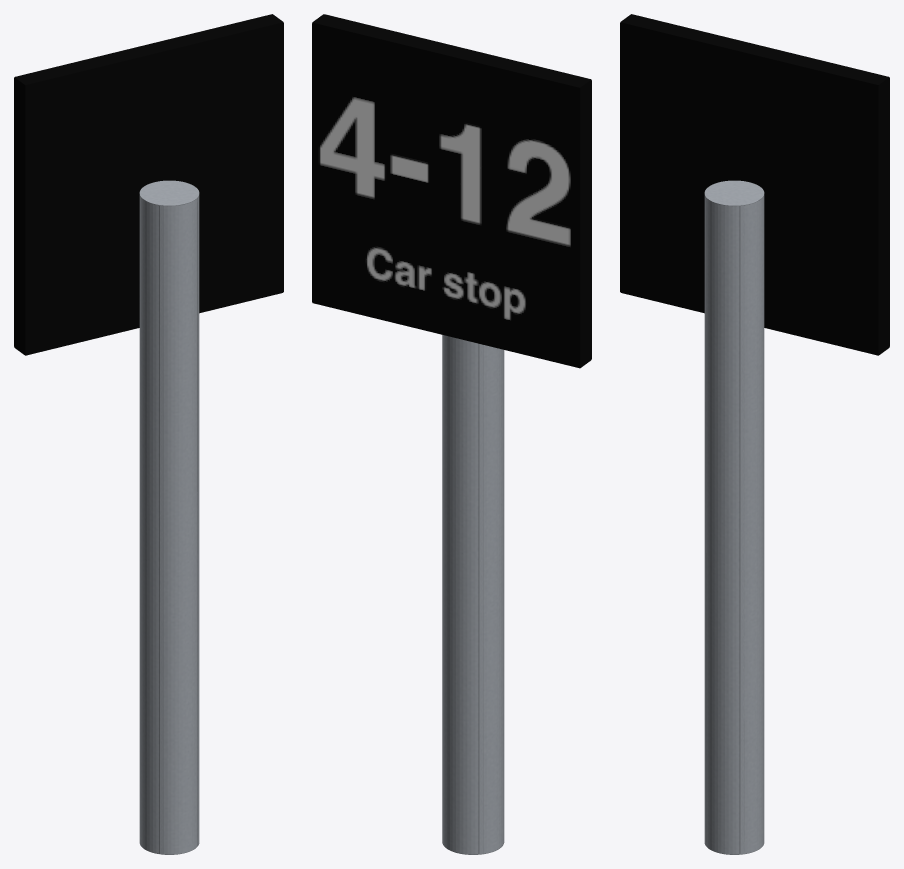
Rendered from 412mark.obj.
The picture shows the model from 3 angles, left to right: view 1: azimuth 30°, elevation 25°; view 2: azimuth 150°, elevation 25°; view 3: azimuth 330°, elevation 25°; orthographic projection. The views are drawn at different scales.
Visible parts, largest first — view 1: cube, cylinder; view 2: cube, cylinder; view 3: cube, cylinder.
Part boxes in pixels (box(x1,y1,x2,y2)): cube: box(14, 14, 283, 355); cylinder: box(139, 180, 199, 854); cube: box(312, 14, 591, 368); cylinder: box(442, 335, 504, 854); cube: box(620, 14, 889, 355); cylinder: box(704, 180, 764, 854).
Size of the model in its own units: 0.625 by 1.8 by 0.1719.
Materials: 1 (1 with a texture image).
